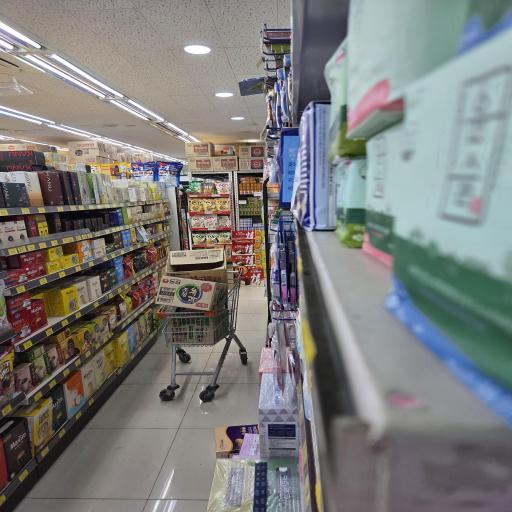fully_cart: (155, 245, 256, 406)
